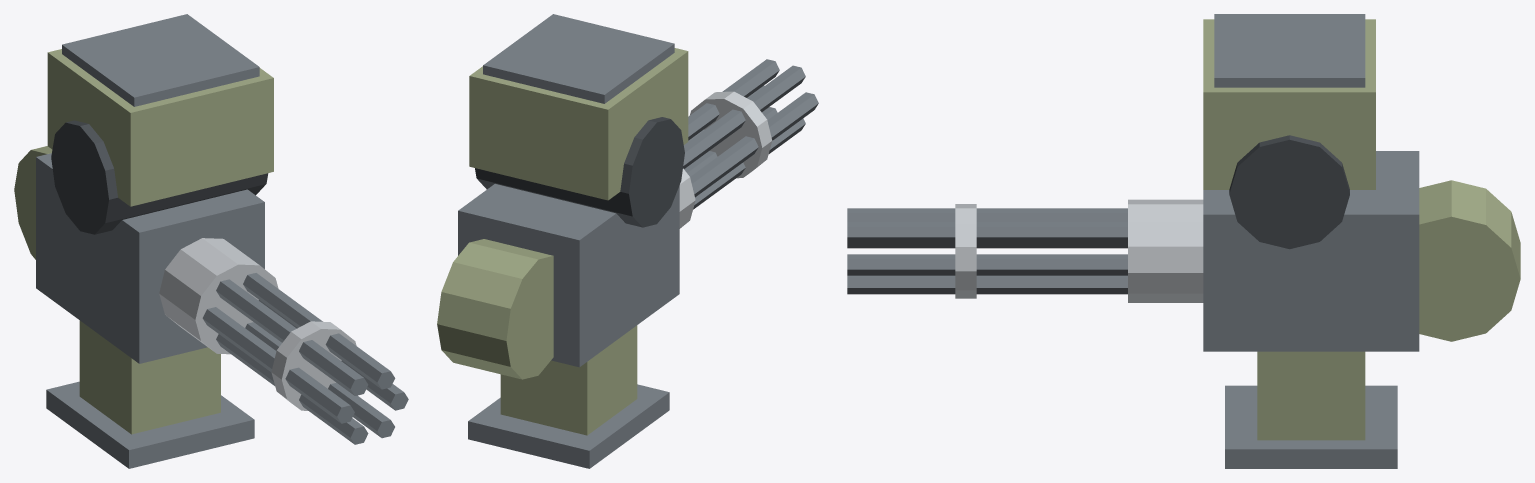
File: mech-hangar-and-battle-frames-gatling-arm-b6dbe2f5__26865.glb
3 views of the same model, side by side, from view 1: azimuth 30°, elevation 25°; view 2: azimuth 150°, elevation 25°; view 3: azimuth 270°, elevation 25° (orthographic). The views are drawn at different scales.
Parts seen in each view (by area): view 1: gatling-arm, rotor (×2); view 2: gatling-arm, rotor (×2); view 3: gatling-arm, rotor (×2).
Boxes of the visible parts, x1,y1,x2,y2 form: gatling-arm: [14, 14, 273, 468]; rotor (×2): [159, 238, 408, 444]; gatling-arm: [437, 14, 688, 468]; rotor (×2): [679, 59, 818, 228]; gatling-arm: [1203, 14, 1520, 468]; rotor (×2): [847, 199, 1203, 302].
Bounding box in the file's own units: 0.9 × 2 × 3.12.
